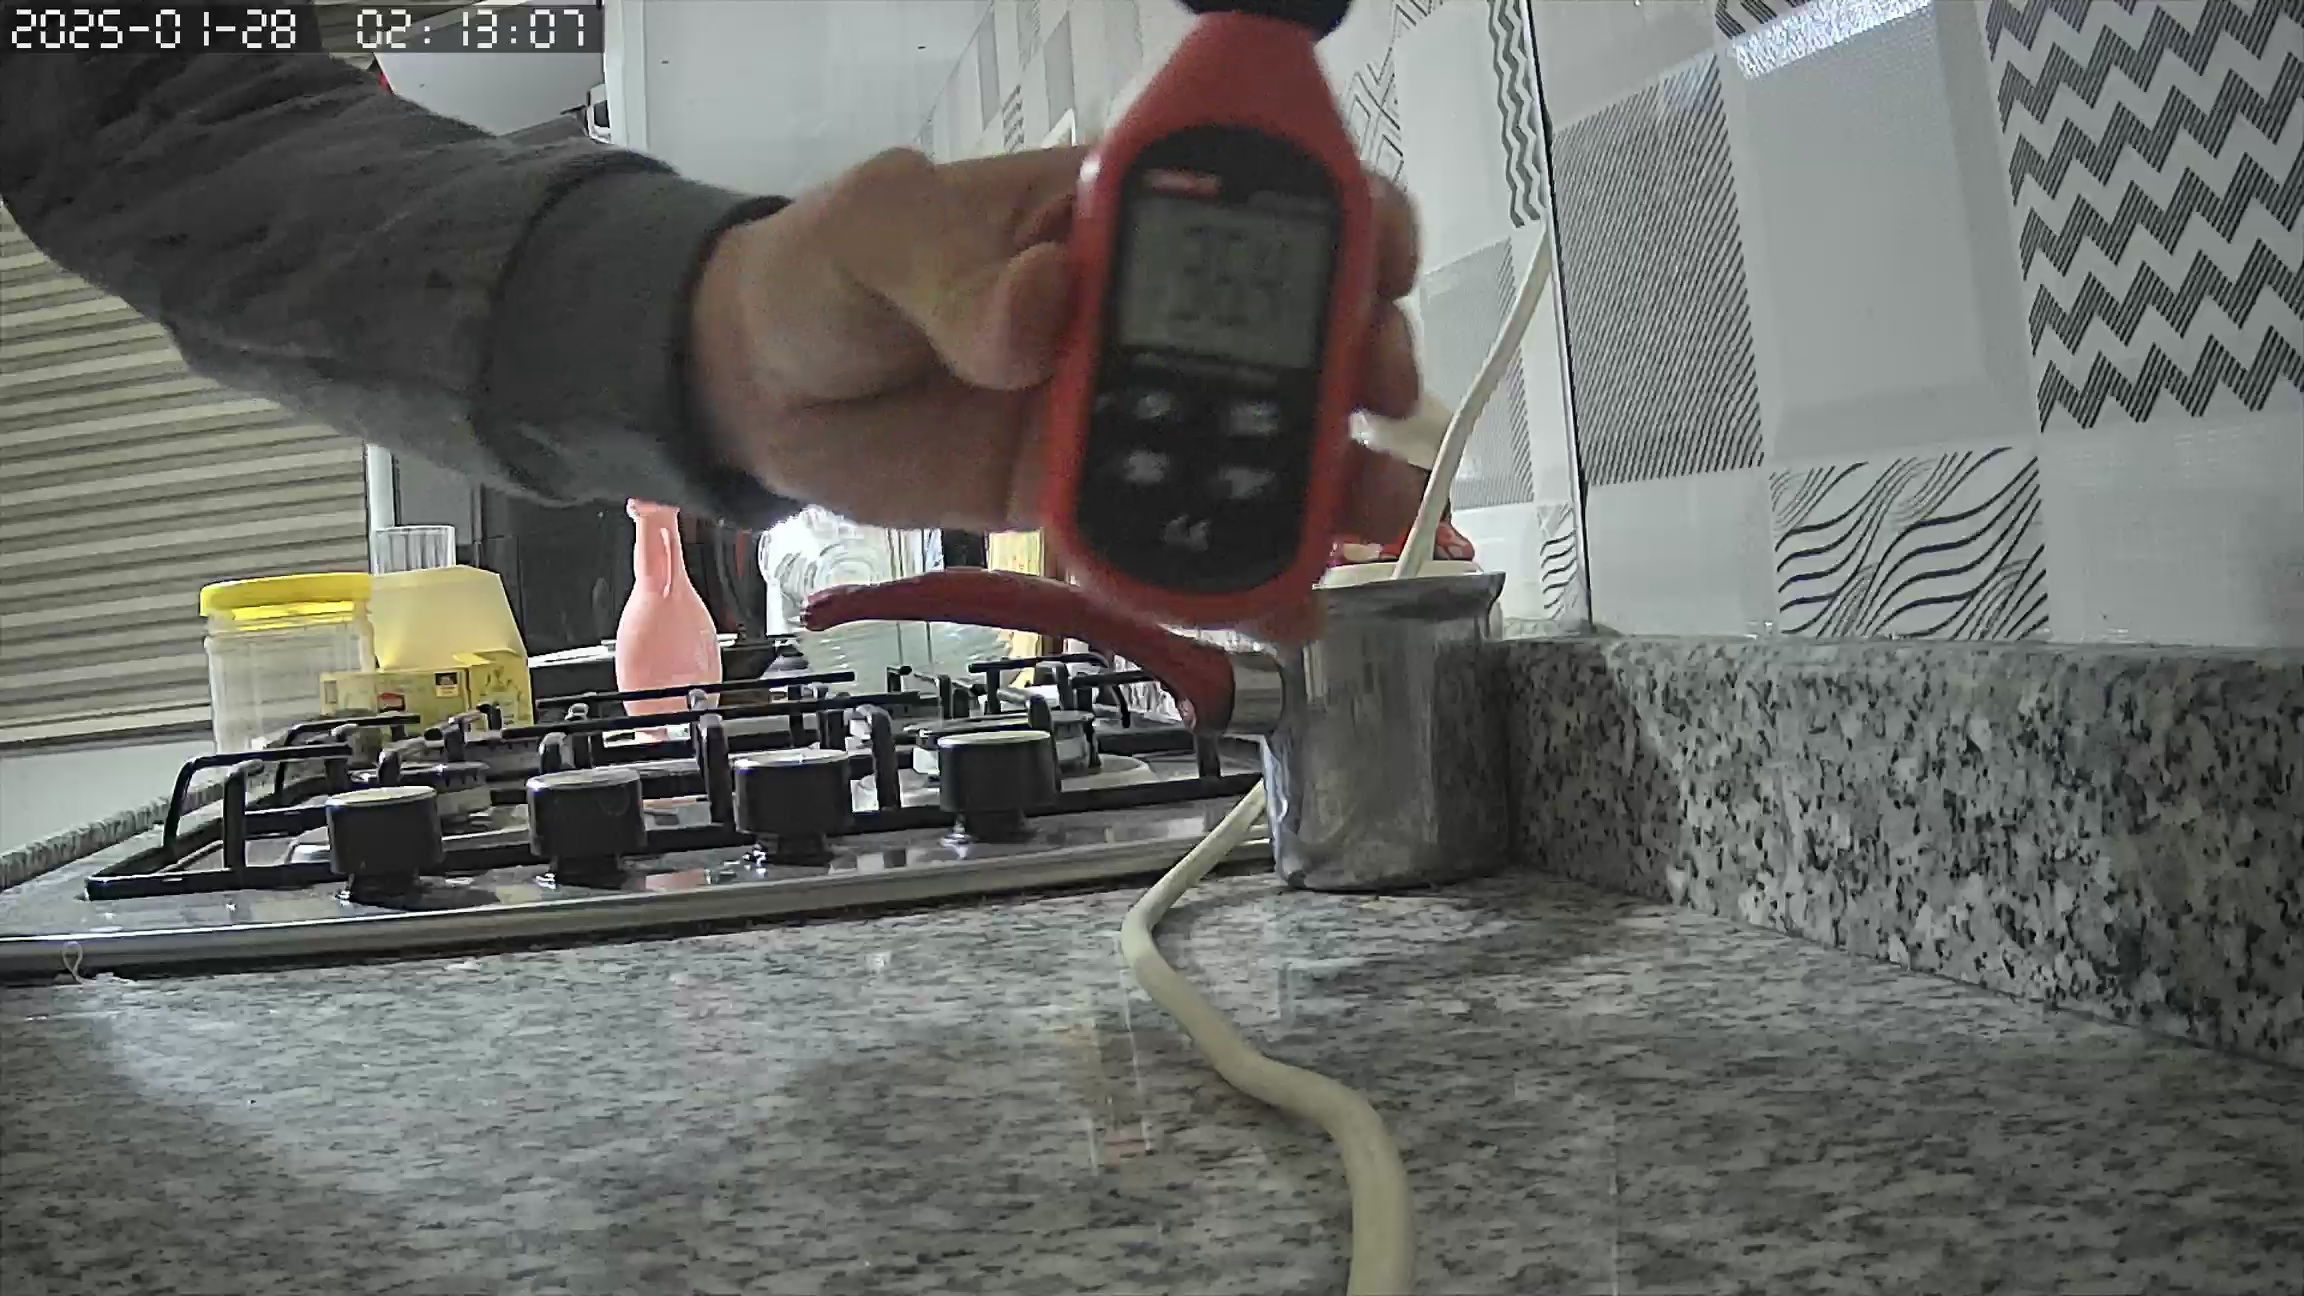screen: (1120, 191, 1321, 370)
